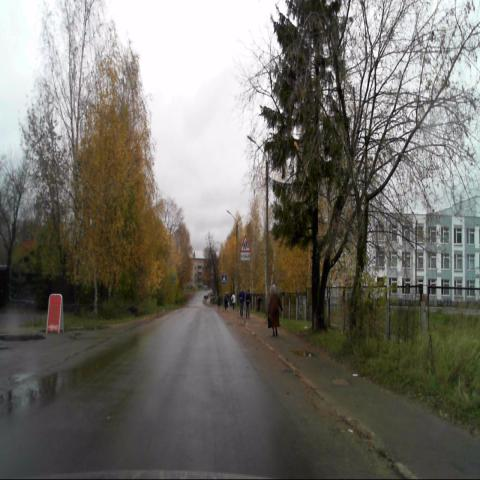1_23: (240, 234, 251, 253)
